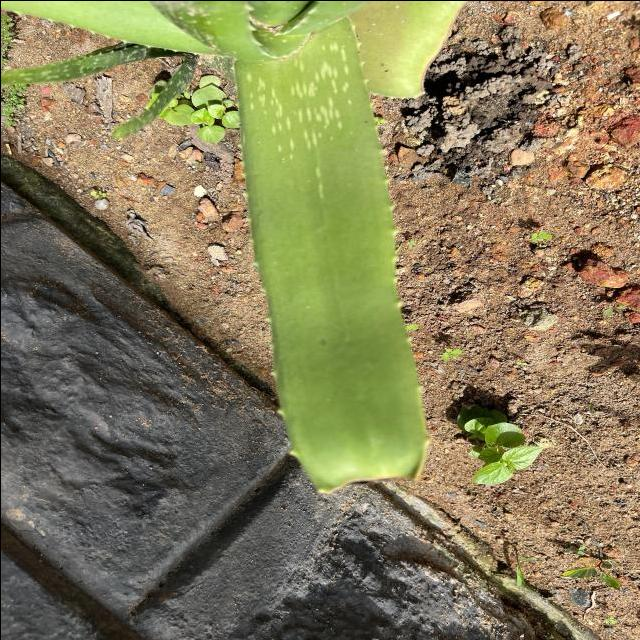Aloe vera: (229, 21, 432, 490)
